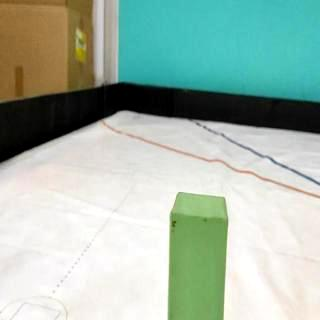greenbox: (170, 189, 230, 320)
